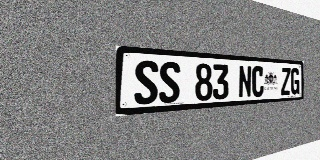3: (213, 64, 228, 100)
8: (195, 63, 212, 101)
C: (252, 66, 264, 97)
G: (291, 68, 299, 95)
N: (238, 65, 252, 98)
S: (134, 60, 158, 105), (159, 61, 180, 103)
Z: (281, 67, 290, 95)
